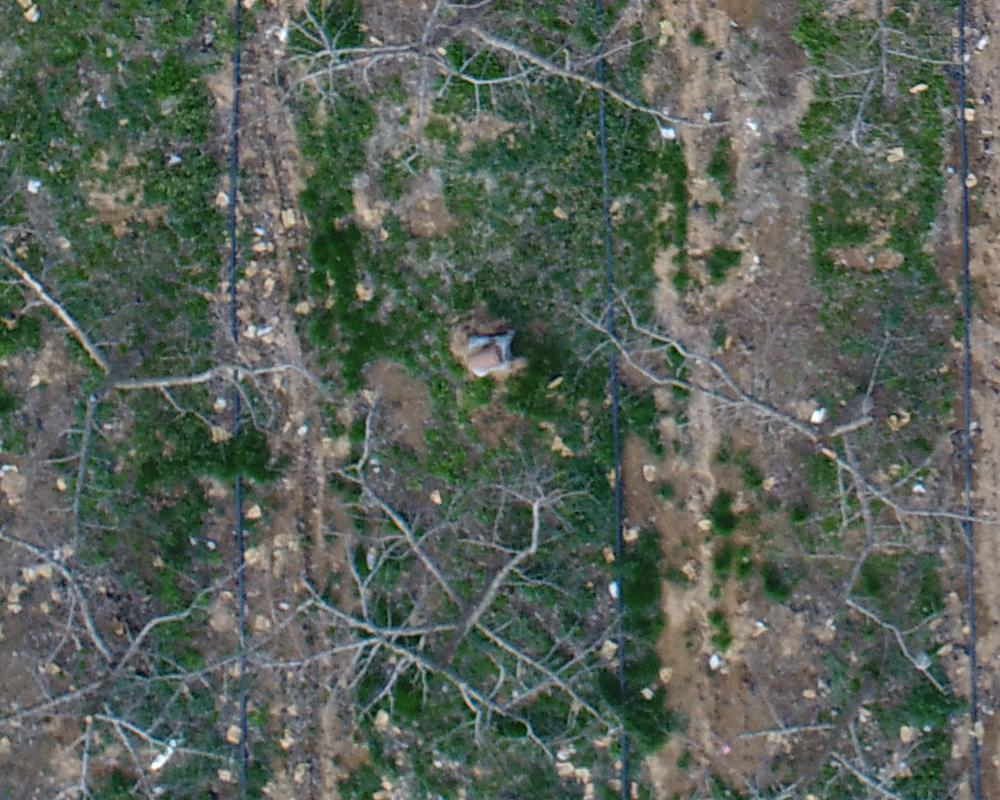apple: (276, 380, 641, 772), (523, 269, 990, 569), (10, 144, 321, 563), (224, 10, 735, 173), (10, 506, 301, 790)
